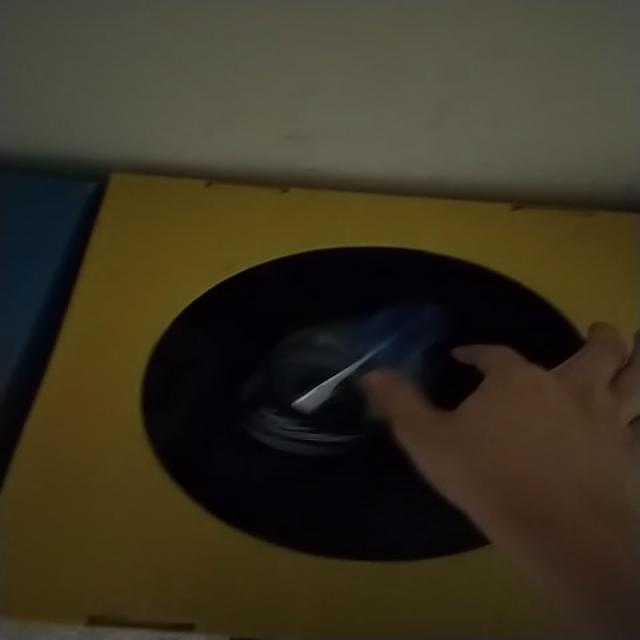Plastic: (243, 302, 445, 457)
